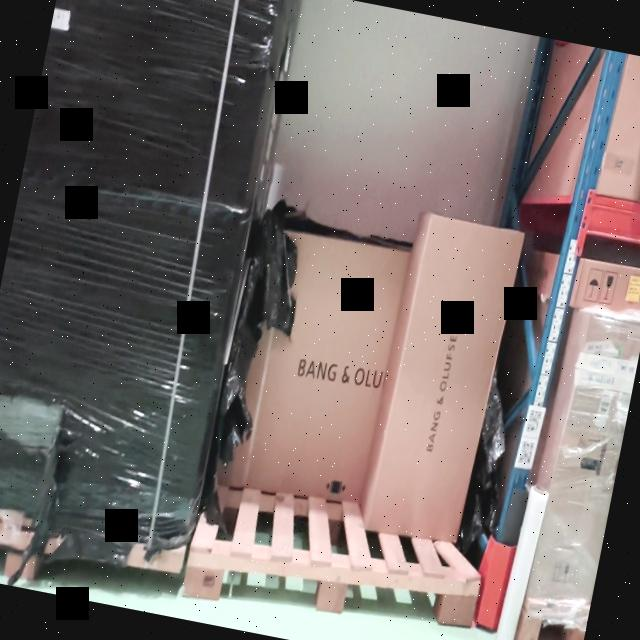box: (0, 0, 285, 541), (214, 225, 408, 504), (365, 214, 517, 545), (535, 310, 640, 604), (576, 258, 640, 314)
